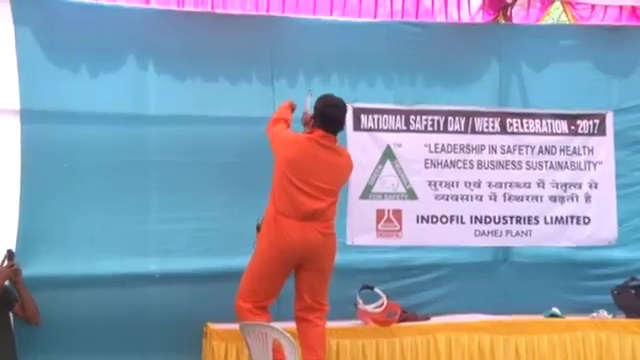helmet_off: (313, 91, 349, 139)
person: (235, 91, 350, 360), (1, 248, 45, 360)
